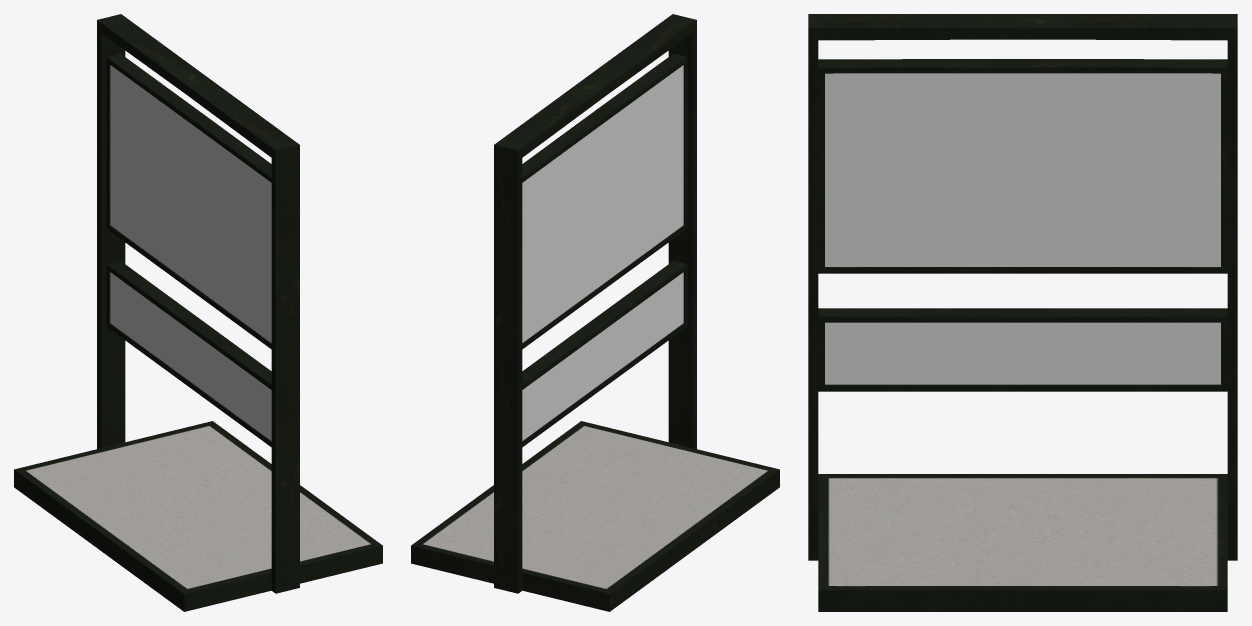
The model's file is Cedule.fbx.
The picture shows the model from 3 angles, left to right: view 1: azimuth 30°, elevation 25°; view 2: azimuth 150°, elevation 25°; view 3: azimuth 270°, elevation 25°; orthographic projection. The views are drawn at different scales.
Visible parts, largest first — view 1: Cedule; view 2: Cedule; view 3: Cedule.
Boxes of the visible parts, <box> form: Cedule: <box>14,14,382,611</box>; Cedule: <box>411,14,779,611</box>; Cedule: <box>808,14,1237,611</box>.
Bounding box in the file's own units: 116 × 246 × 180.
